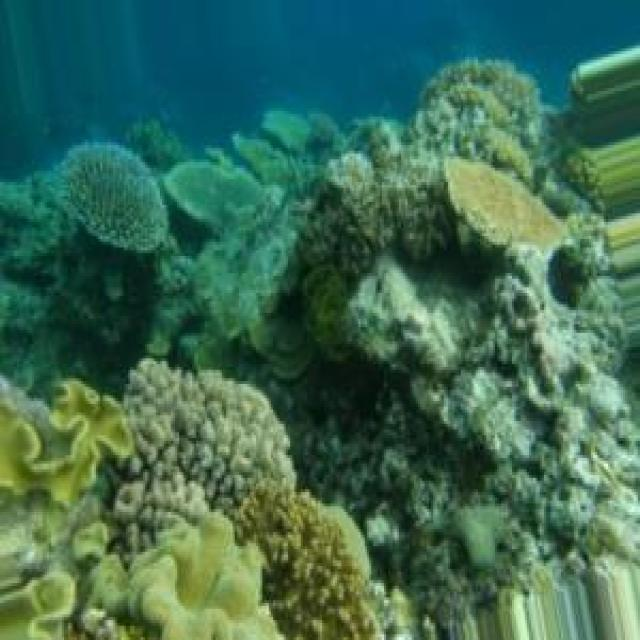healthy coral: (110, 360, 293, 559), (129, 362, 295, 512), (92, 512, 280, 638), (238, 482, 374, 638), (0, 377, 134, 502)
